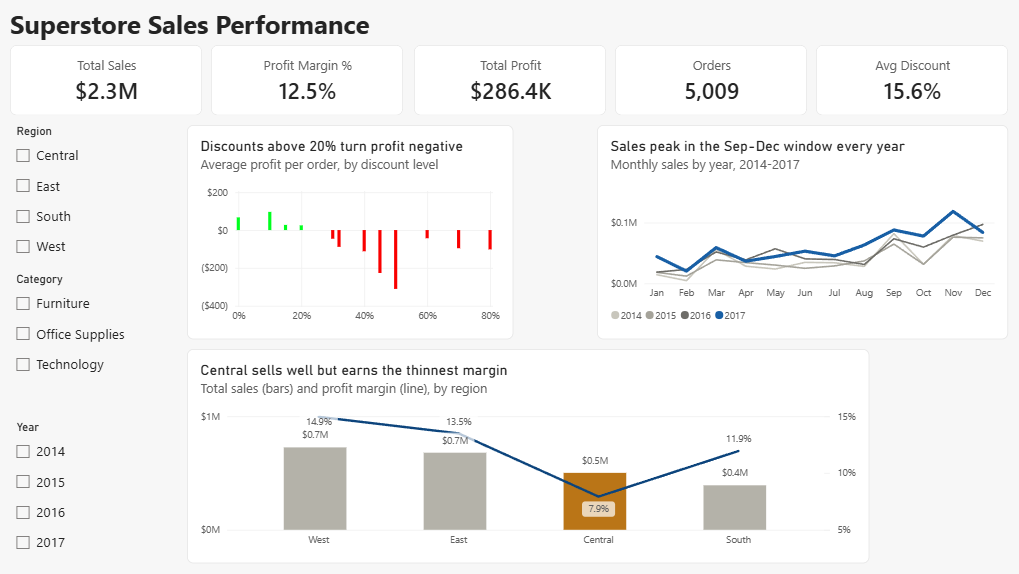

This screenshot's page, from the dashboard's own definition file:
{"tool":"powerbi","page":{"name":"Page 1","canvas":[1280,720],"ordinal":0},"visuals":[{"type":"cardVisual","fields":{"Data":["_Measures.Total Sales"]},"box":[16,56,240,88],"z":1},{"type":"cardVisual","fields":{"Data":["_Measures.Total Profit"]},"box":[520.8,55.9,240,88],"z":2},{"type":"cardVisual","fields":{"Data":["_Measures.Orders Display"]},"box":[772,56,240,88],"z":3},{"type":"cardVisual","fields":{"Data":["_Measures.Profit Margin %"]},"box":[268,56,240,88],"z":4},{"type":"cardVisual","fields":{"Data":["_Measures.Avg Discount"]},"box":[1024,56,240,88],"z":5},{"type":"lineClusteredColumnComboChart","title":"Discounts above 20% turn profit negative","fields":{"Category":["public superstore.Discount"],"Y":["_Measures.Avg Profit"]},"box":[238,156,408,268],"z":6},{"type":"lineClusteredColumnComboChart","title":"Central sells well but earns the thinnest margin","fields":{"Category":["public superstore.Region"],"Y":["_Measures.Total Sales"],"Y2":["_Measures.Profit Margin %"]},"box":[238,436,853,268],"z":7},{"type":"lineChart","title":"Sales peak in the Sep-Dec window every year","fields":{"Category":["Calendar.Month"],"Series":["Calendar.Year"],"Y":["_Measures.Total Sales"]},"box":[750,156,514,268],"z":8},{"type":"slicer","fields":{"Values":["public superstore.Region"]},"box":[16,156,210,170],"z":9},{"type":"slicer","fields":{"Values":["public superstore.Category"]},"box":[16,341,210,150],"z":10},{"type":"slicer","fields":{"Values":["Calendar.Year"]},"box":[16,526,210,170],"z":11},{"type":"textbox","box":[16.2,7.5,697.5,45],"z":12}]}

Visuals, with their boxes in screenshot pixels (x1, y1, x2, y2), scaled from the page's 1280x720 canvas onto the 1019x574 screenshot:
cardVisual - _Measures.Total Sales: BBox(13, 45, 204, 115)
cardVisual - _Measures.Total Profit: BBox(415, 45, 606, 115)
cardVisual - _Measures.Orders Display: BBox(615, 45, 806, 115)
cardVisual - _Measures.Profit Margin %: BBox(213, 45, 404, 115)
cardVisual - _Measures.Avg Discount: BBox(815, 45, 1006, 115)
"Discounts above 20% turn profit negative" lineClusteredColumnComboChart: BBox(189, 124, 514, 338)
"Central sells well but earns the thinnest margin" lineClusteredColumnComboChart: BBox(189, 348, 869, 561)
"Sales peak in the Sep-Dec window every year" lineChart: BBox(597, 124, 1006, 338)
slicer - public superstore.Region: BBox(13, 124, 180, 260)
slicer - public superstore.Category: BBox(13, 272, 180, 391)
slicer - Calendar.Year: BBox(13, 419, 180, 555)
textbox: BBox(13, 6, 568, 42)
